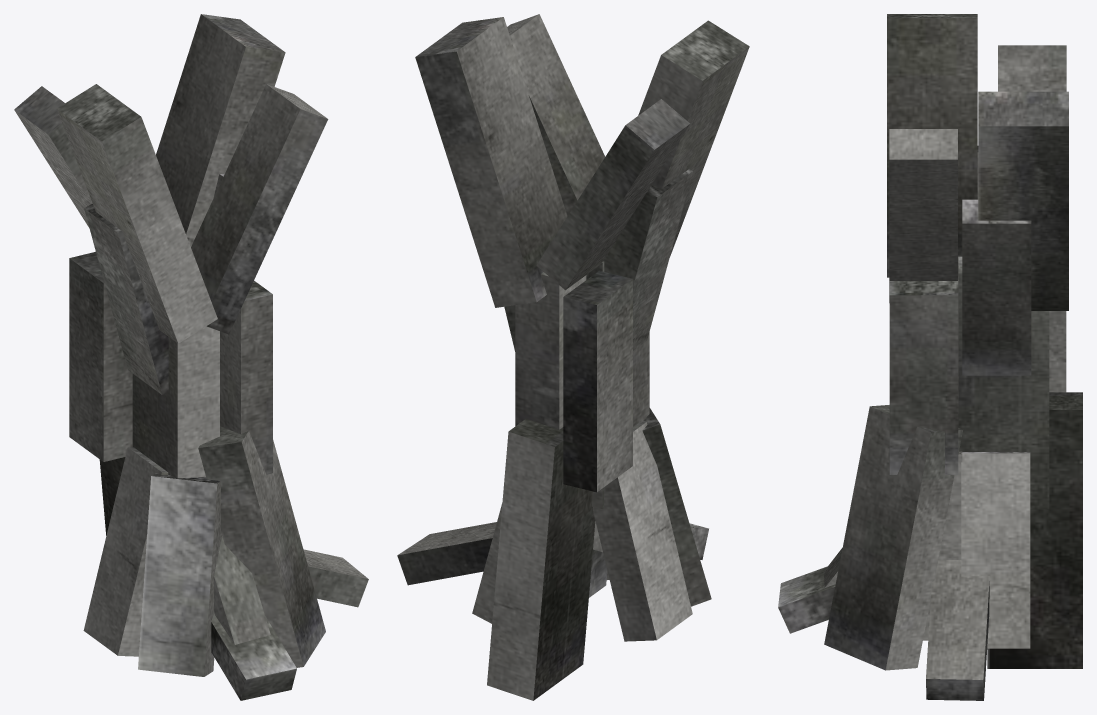
The model's file is R1_Corner.obj.
The picture shows the model from 3 angles, left to right: view 1: azimuth 30°, elevation 25°; view 2: azimuth 150°, elevation 25°; view 3: azimuth 270°, elevation 25°; orthographic projection. The views are drawn at different scales.
Visible parts, largest first — view 1: Cube; view 2: Cube; view 3: Cube.
Boxes of the visible parts, box(x1,y1,x2,y2) form: Cube: box(14, 14, 368, 700); Cube: box(397, 14, 749, 700); Cube: box(778, 14, 1082, 700).
Size of the model in its own units: 3.39 by 6.69 by 3.08.
1 material, 1 textured.
